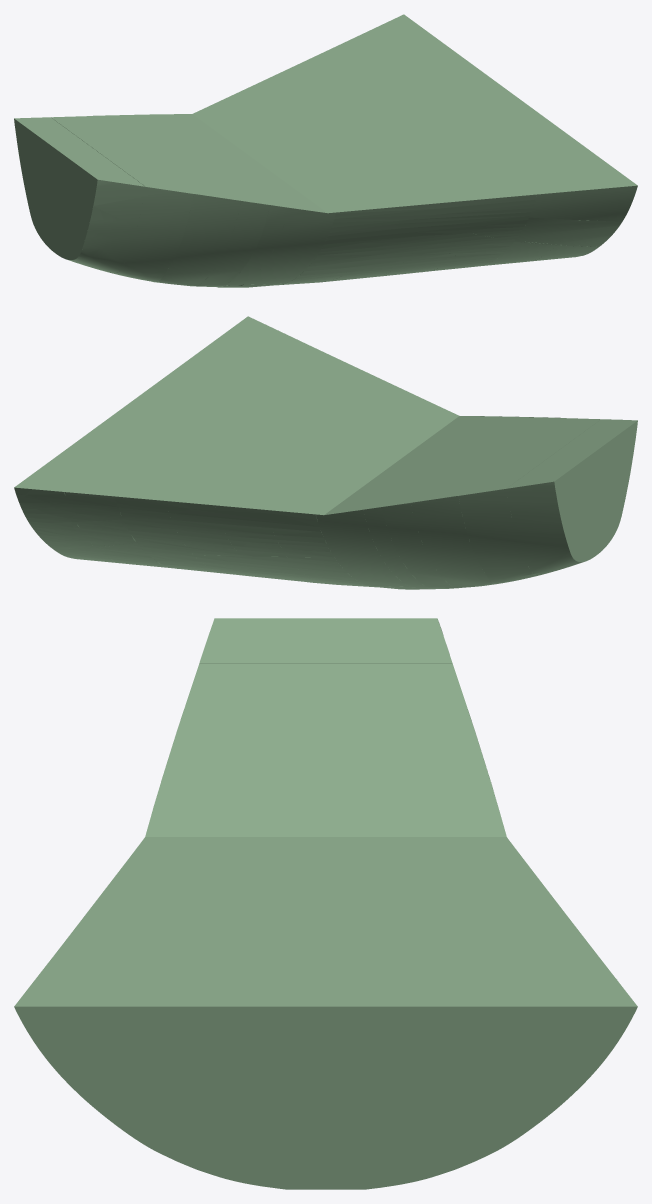
Rendered from BILGE_WATER_SETT_TK.glb.
3 views of the same model, one above another, from view 1: azimuth 30°, elevation 25°; view 2: azimuth 150°, elevation 25°; view 3: azimuth 270°, elevation 25° (orthographic). The views are drawn at different scales.
Parts seen in each view (by area): view 1: PL_DoubleBottomxEPRS_013001-20.5_NVA_1993, PL_DoubleBottomxEPRP_012002-20.5_NVA_1993, PL_OuterShellxEPRS_017001-20.5_NVA_1993, PL_OuterShellxEPRS_002001-36_NVA_1993.001, PL_OuterShellxEPRS_003002-20.5_NVA_1993, PL_OuterShellxEPRS_003001-20.5_NVA_1993, PL_DoubleBottomxEPRS_010004-20.5_NVA_1993, PL_OuterShellxEPRS_018001-20.5_NVA_1993, PL_DoubleBottomxEPRP_009010-20.5_NVA_1993, PL_TransxFR15P_005001-15_NVA_1993, PL_TransxFR15S_005001-15_NVA_1993, PL_OuterShellxEPRS_033002-18_NVA_1993 (+16 smaller); view 2: PL_DoubleBottomxEPRS_013001-20.5_NVA_1993, PL_DoubleBottomxEPRP_012002-20.5_NVA_1993, PL_OuterShellxEPRP_017001-20.5_NVA_1993, PL_OuterShellxEPRP_002001-36_NVA_1993.001, PL_OuterShellxEPRP_003003-20.5_NVA_1993, PL_OuterShellxEPRP_003001-20.5_NVA_1993, PL_DoubleBottomxEPRS_010004-20.5_NVA_1993, PL_OuterShellxEPRP_018001-20.5_NVA_1993, PL_DoubleBottomxEPRP_009010-20.5_NVA_1993, PL_TransxFR15P_005001-15_NVA_1993, PL_TransxFR15S_005001-15_NVA_1993, PL_OuterShellxEPRP_033002-18_NVA_1993 (+16 smaller); view 3: PL_TransxFR26S_001001-15_NVA_1993, PL_TransxFR26P_001002-15_NVA_1993, PL_DoubleBottomxEPRS_013001-20.5_NVA_1993, PL_DoubleBottomxEPRP_012002-20.5_NVA_1993, PL_DoubleBottomxEPRP_016004-20.5_NVA_1993, PL_DoubleBottomxEPRS_016002-20.5_NVA_1993, PL_DoubleBottomxEPRP_017001-20.5_NVA_1993, PL_DoubleBottomxEPRS_015001-20.5_NVA_1993, PL_DoubleBottomxEPRS_016001-20.5_NVA_1993, PL_DoubleBottomxEPRS_010004-20.5_NVA_1993, PL_DoubleBottomxEPRP_016002-20.5_NVA_1993, PL_TransxFR26P_001001-15_NVA_1993 (+9 smaller).
Part boxes in pixels (<box>): PL_DoubleBottomxEPRS_013001-20.5_NVA_1993: <box>260,119,544,213</box>; PL_DoubleBottomxEPRP_012002-20.5_NVA_1993: <box>193,44,427,152</box>; PL_OuterShellxEPRS_017001-20.5_NVA_1993: <box>318,194,537,255</box>; PL_OuterShellxEPRS_002001-36_NVA_1993.001: <box>67,179,193,281</box>; PL_OuterShellxEPRS_003002-20.5_NVA_1993: <box>155,194,270,285</box>; PL_OuterShellxEPRS_003001-20.5_NVA_1993: <box>225,205,335,285</box>; PL_DoubleBottomxEPRS_010004-20.5_NVA_1993: <box>444,100,599,168</box>; PL_OuterShellxEPRS_018001-20.5_NVA_1993: <box>286,252,503,283</box>; PL_DoubleBottomxEPRP_009010-20.5_NVA_1993: <box>395,42,505,107</box>; PL_TransxFR15P_005001-15_NVA_1993: <box>14,118,55,253</box>; PL_TransxFR15S_005001-15_NVA_1993: <box>56,149,97,259</box>; PL_OuterShellxEPRS_033002-18_NVA_1993: <box>529,185,637,221</box>; PL_DoubleBottomxEPRS_013001-20.5_NVA_1993: <box>209,346,459,465</box>; PL_DoubleBottomxEPRP_012002-20.5_NVA_1993: <box>107,432,376,515</box>; PL_OuterShellxEPRP_017001-20.5_NVA_1993: <box>114,496,333,557</box>; PL_OuterShellxEPRP_002001-36_NVA_1993.001: <box>458,481,582,583</box>; PL_OuterShellxEPRP_003003-20.5_NVA_1993: <box>381,496,495,587</box>; PL_OuterShellxEPRP_003001-20.5_NVA_1993: <box>316,507,426,587</box>; PL_DoubleBottomxEPRS_010004-20.5_NVA_1993: <box>131,344,256,420</box>; PL_OuterShellxEPRP_018001-20.5_NVA_1993: <box>148,554,364,585</box>; PL_DoubleBottomxEPRP_009010-20.5_NVA_1993: <box>52,413,193,470</box>; PL_TransxFR15P_005001-15_NVA_1993: <box>554,451,596,561</box>; PL_TransxFR15S_005001-15_NVA_1993: <box>596,420,637,555</box>; PL_OuterShellxEPRP_033002-18_NVA_1993: <box>14,487,122,523</box>; PL_TransxFR26S_001001-15_NVA_1993: <box>14,1006,325,1189</box>; PL_TransxFR26P_001002-15_NVA_1993: <box>365,1006,637,1189</box>; PL_DoubleBottomxEPRS_013001-20.5_NVA_1993: <box>54,837,325,956</box>; PL_DoubleBottomxEPRP_012002-20.5_NVA_1993: <box>365,837,597,956</box>; PL_DoubleBottomxEPRP_016004-20.5_NVA_1993: <box>326,701,490,781</box>; PL_DoubleBottomxEPRS_016002-20.5_NVA_1993: <box>161,701,325,781</box>; PL_DoubleBottomxEPRP_017001-20.5_NVA_1993: <box>326,618,464,701</box>; PL_DoubleBottomxEPRS_015001-20.5_NVA_1993: <box>187,618,325,701</box>; PL_DoubleBottomxEPRS_016001-20.5_NVA_1993: <box>145,781,325,836</box>; PL_DoubleBottomxEPRS_010004-20.5_NVA_1993: <box>116,956,325,1006</box>; PL_DoubleBottomxEPRP_016002-20.5_NVA_1993: <box>365,781,506,836</box>; PL_TransxFR26P_001001-15_NVA_1993: <box>326,1006,365,1189</box>.
Size of the model in its own units: 9.9 by 4.1 by 8.63.
